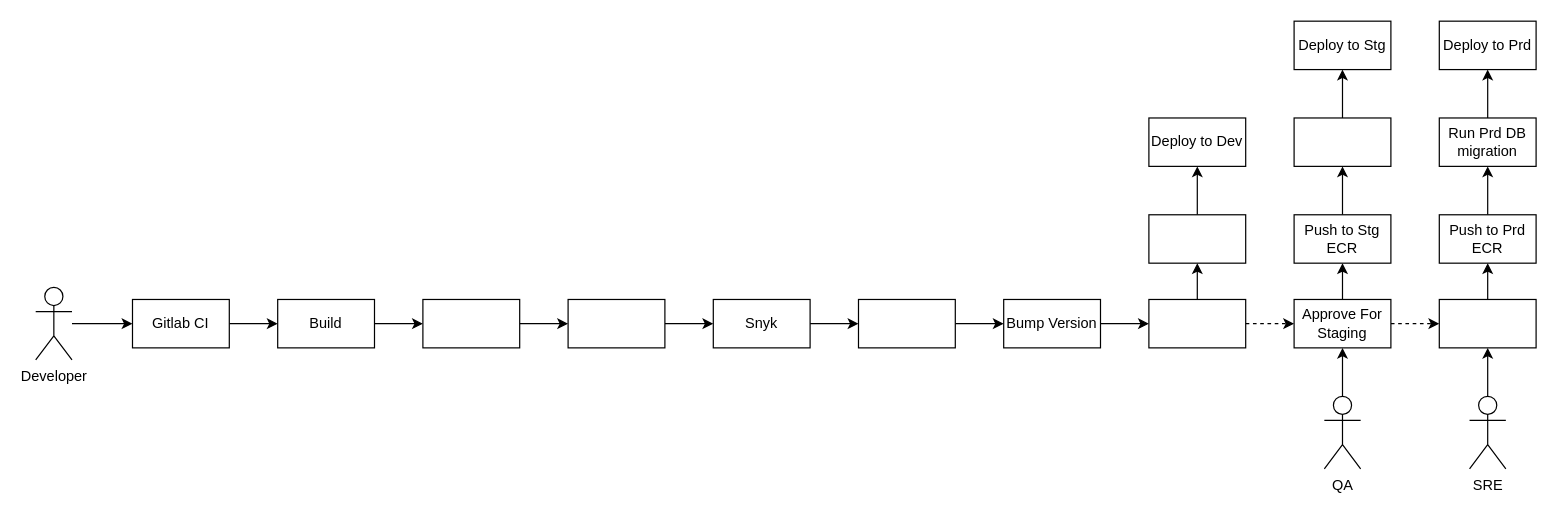
Some shapes in this 1557 by 515 pixel diagram are drawn without their labels. The centre of each missing label's shape, as x and y in pixels:
"Approve For Prod" belongs at point 1487,323.
"Docker Image Build" belongs at point 906,323.
"Push to Dev ECR" belongs at point 1197,323.
"Run Dev DB migration" belongs at point 1197,238.
"Run Stg DB migration" belongs at point 1342,141.
"Sonar" belongs at point 616,323.
"Unit Test" belongs at point 471,323.
